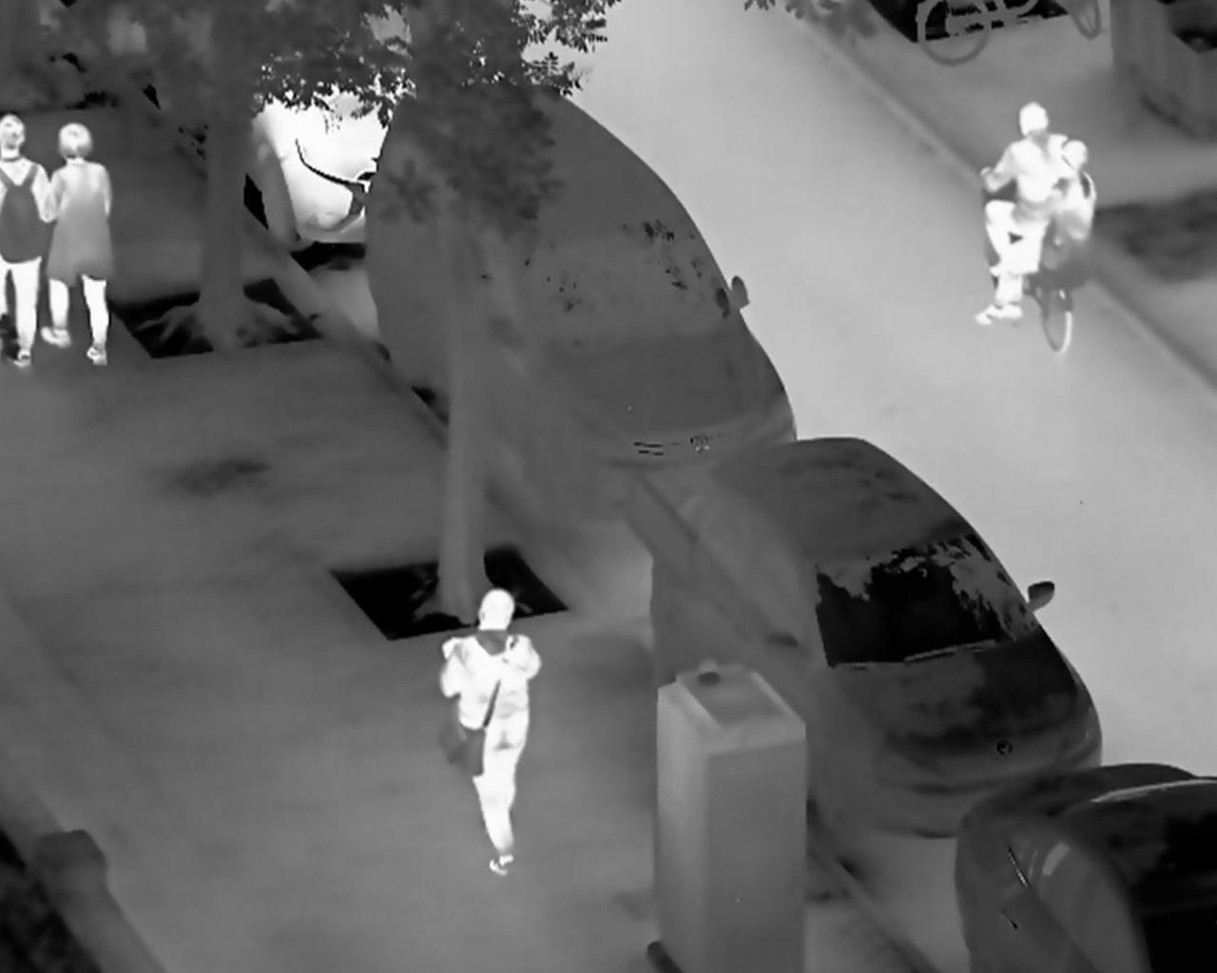person: (435, 588, 543, 881), (976, 140, 1098, 328), (49, 121, 123, 369), (981, 105, 1082, 281)
